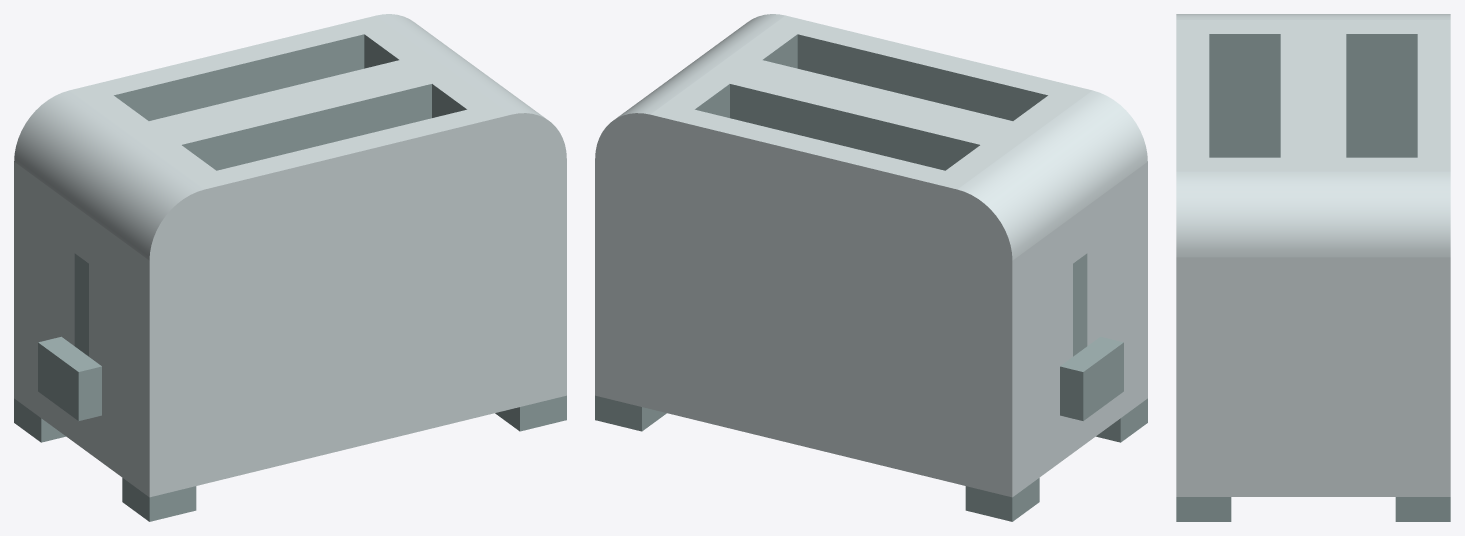
Rendered from toaster.glb.
3 renders of one model, left to right at view 1: azimuth 30°, elevation 25°; view 2: azimuth 150°, elevation 25°; view 3: azimuth 270°, elevation 25°, orthographic.
Parts seen in each view (by area): view 1: toaster(Clone); view 2: toaster(Clone); view 3: toaster(Clone).
Boxes of the visible parts, x1,y1,x2,y2 form: toaster(Clone): (14,14,566,521); toaster(Clone): (595,14,1147,521); toaster(Clone): (1176,14,1450,521).
Size of the model in its own units: 0.3816 by 0.2639 by 0.203.
Materials: 2 (2 with a texture image).
